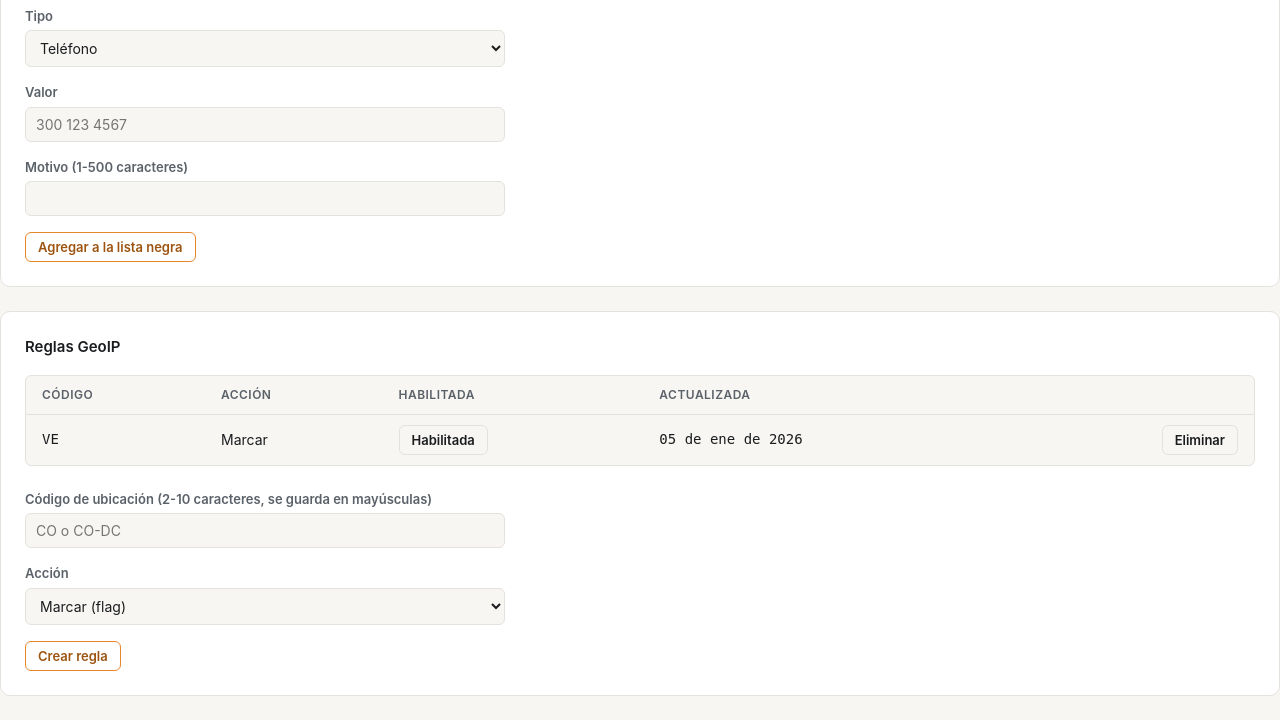
FraudPage › creates a GeoIP rule with the selected action
This screenshot has width=1280, height=720.
(page scrolled)
Expected: the text "VE" is shown, [26,414,205,465]
Type "ru" into the field labelled "Código de ubicación".
click(265, 531); type("ru")  # box [25,513,505,548]
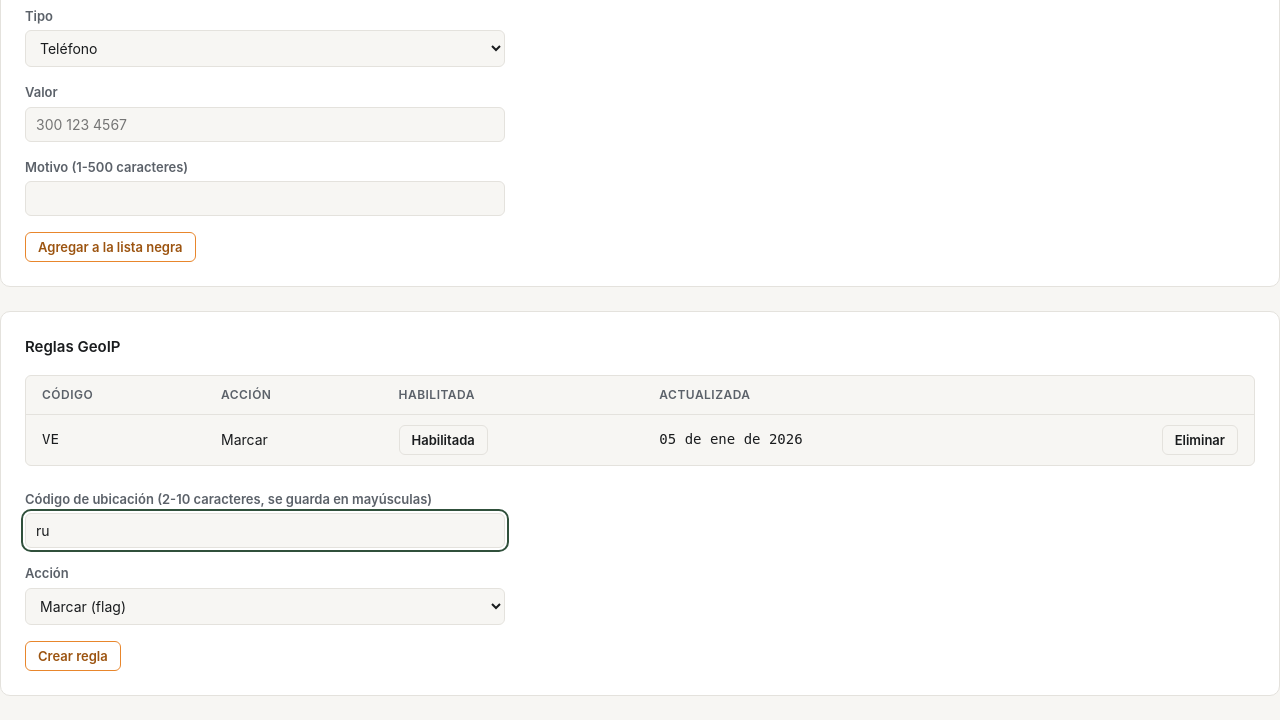
Select "Bloquear (block)" in the dropdown labelled "Acción" at (265,606), box [25,588,505,625]
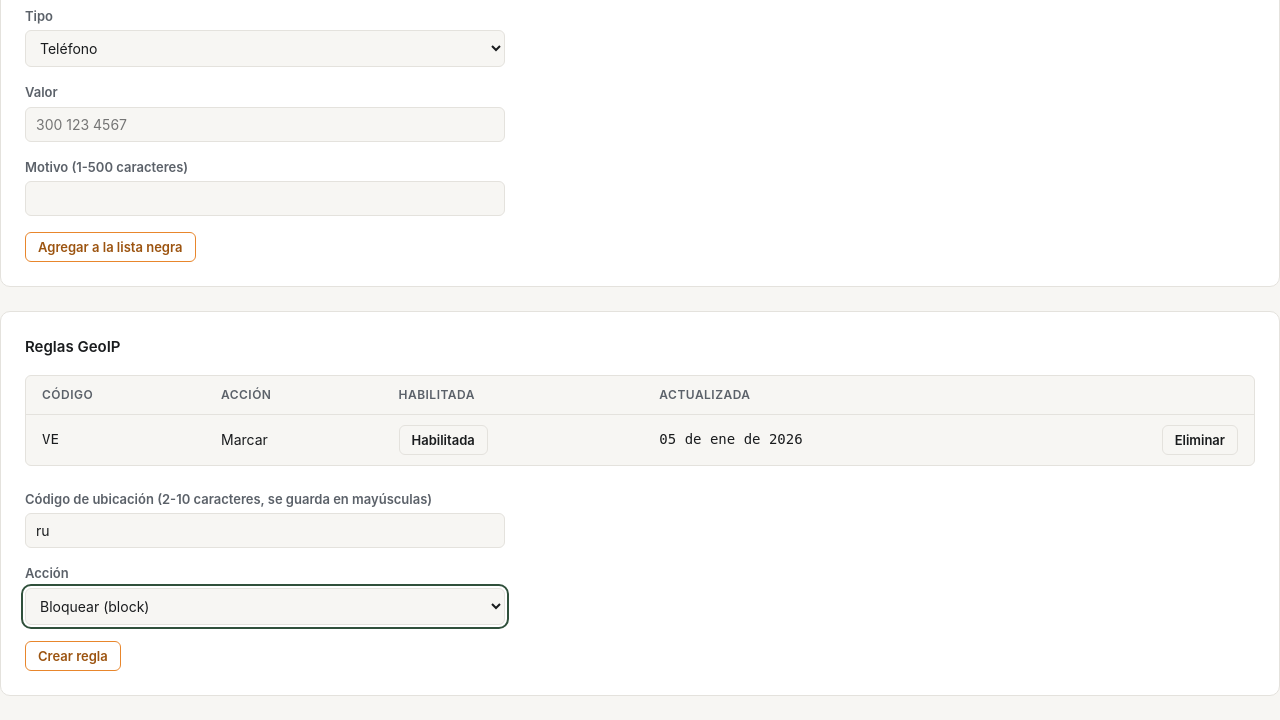
Click the button "Crear regla".
click(73, 656)  # box [25,641,121,671]
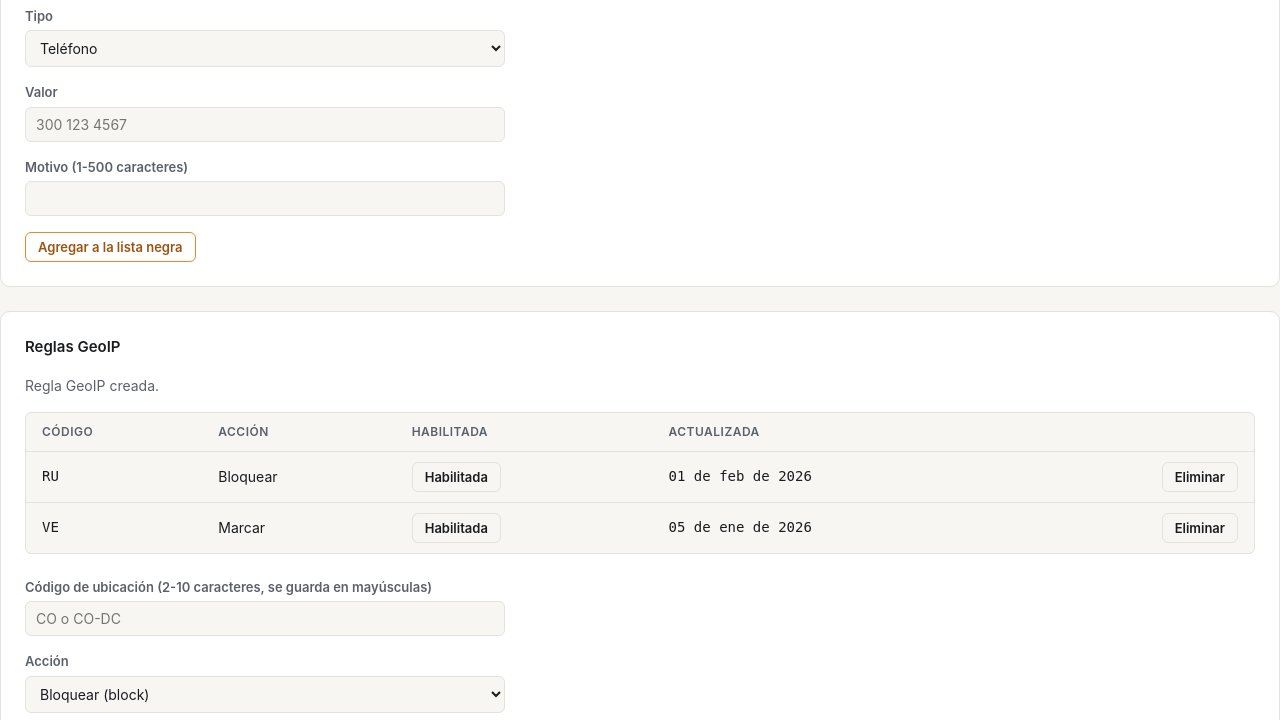
Expected: the text "RU" is shown, [26,451,202,502]
